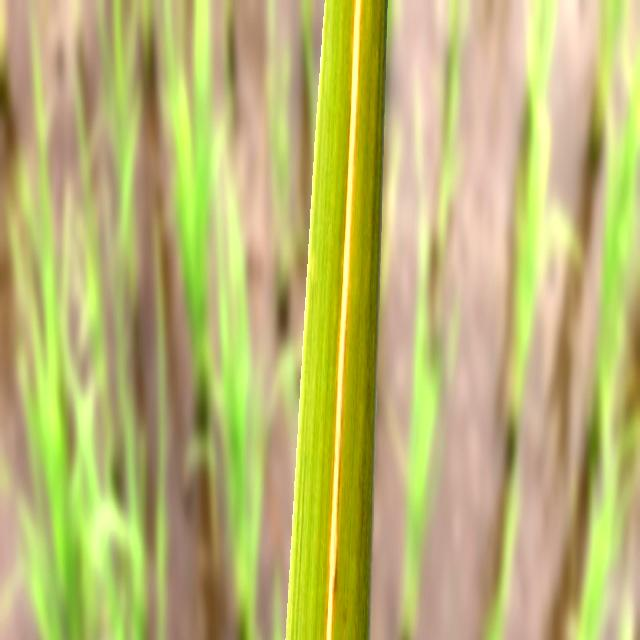BLS: (323, 0, 363, 640)
